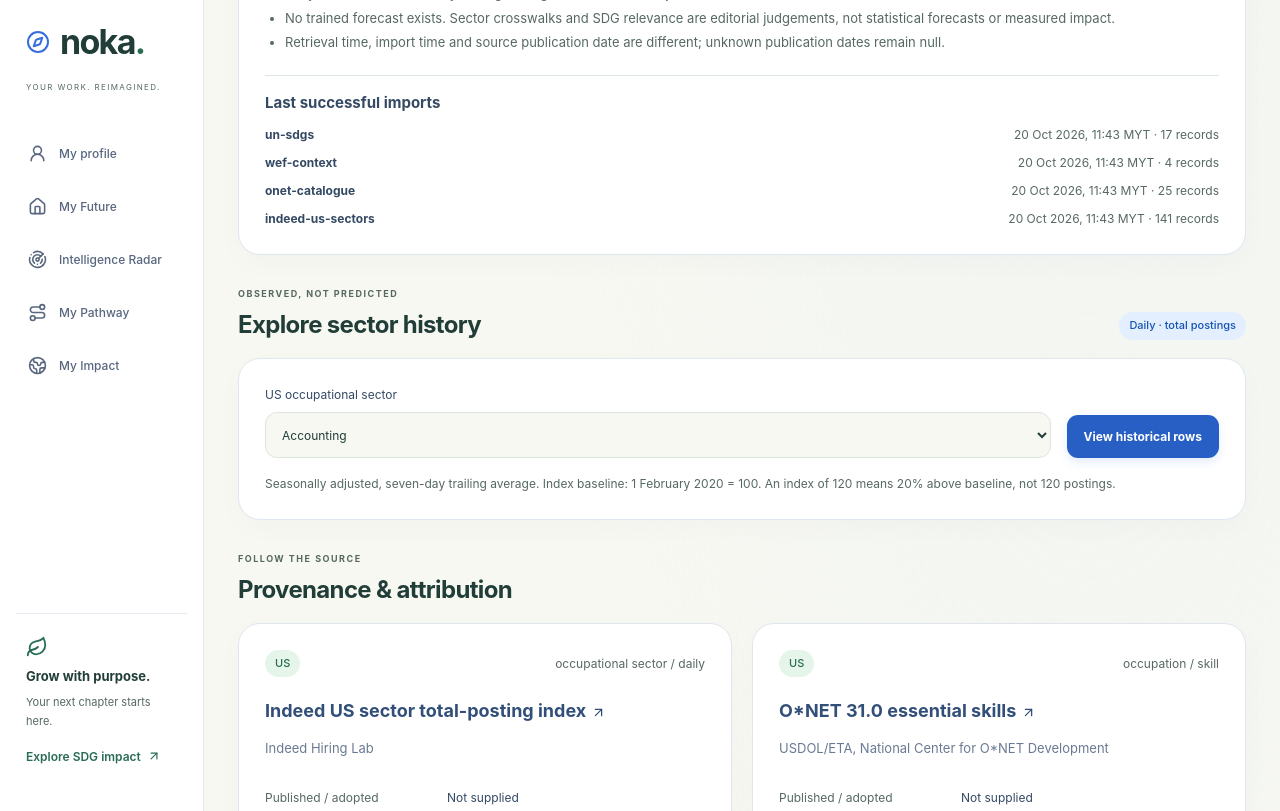
it: public evidence journey › retries history after a transient request failure
(page scrolled)
Click the button "View historical rows". click: {"x": 1143, "y": 436}
box: [1066, 415, 1219, 458]
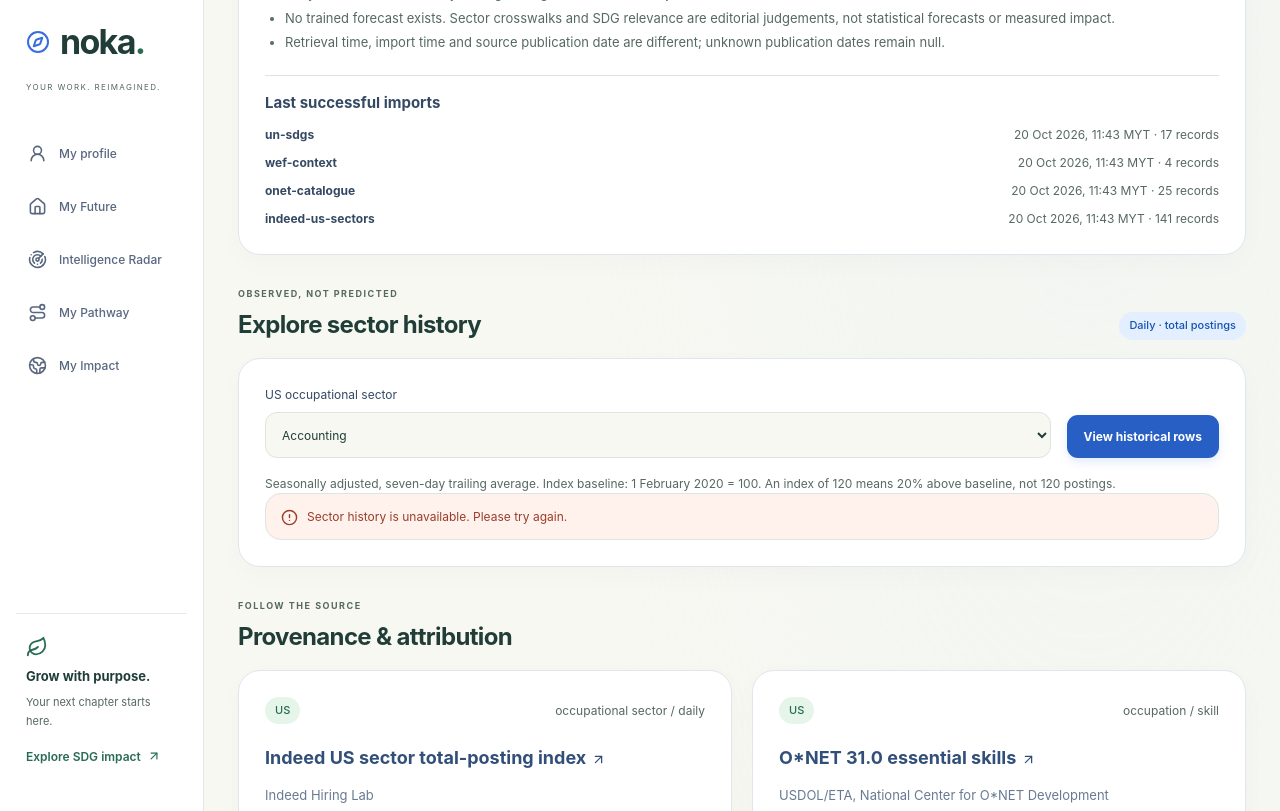
Expected: the text "Sector history is unavailable. Please try again." is shown, [307, 507, 567, 526]
Click the button "View historical rows". click: {"x": 1143, "y": 436}
box: [1066, 415, 1219, 458]
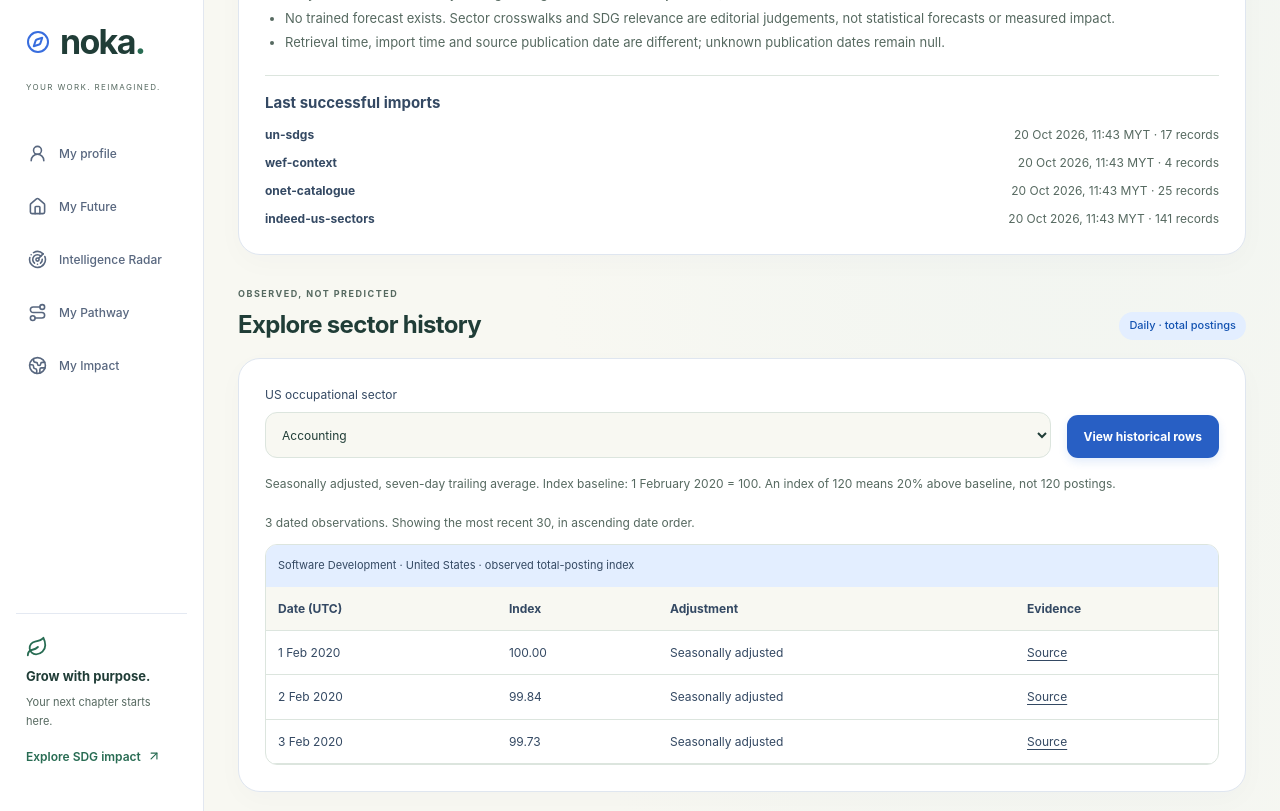
Expected: the table is shown, [266, 545, 1218, 764]
